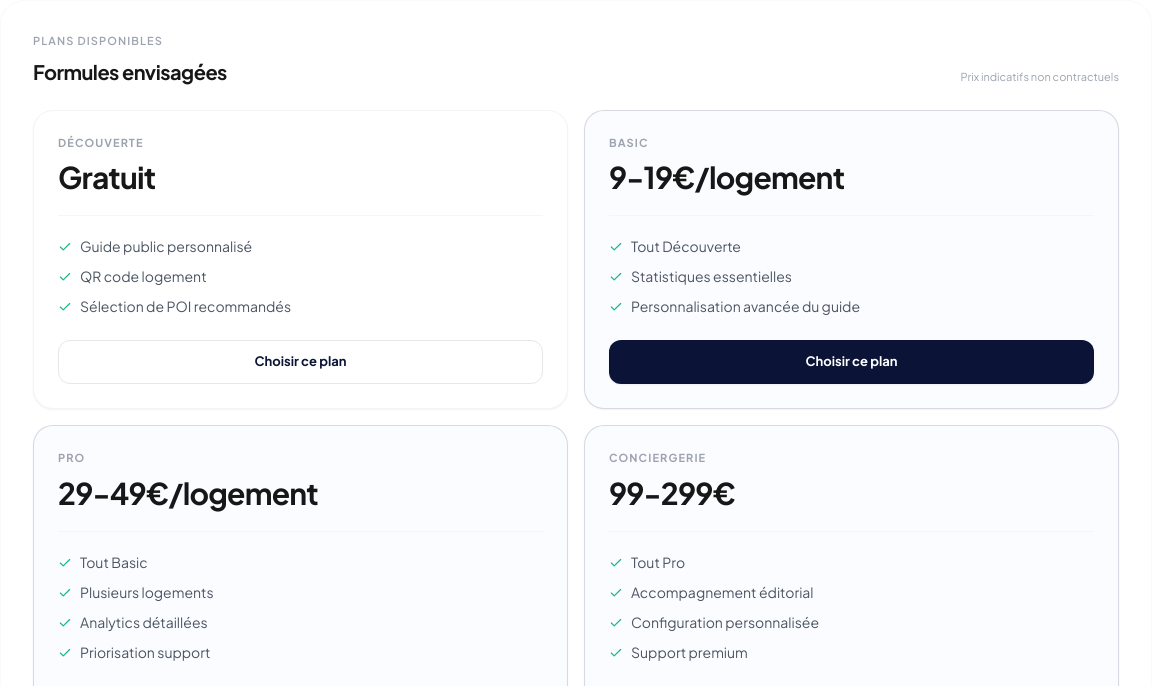
013 subscription plan grid › AC-02-01/02-02: shows indicative plans and an informational dialog without payment
expect the text "Prix indicatifs non contractuels" is shown: met, box [960,69,1119,86]
expect the text "Découverte" is shown: met, box [58,136,144,148]
Click the button "Choisir ce plan" below "Personnalisation avancée du guide".
click(852, 362)  # box [609,340,1094,384]
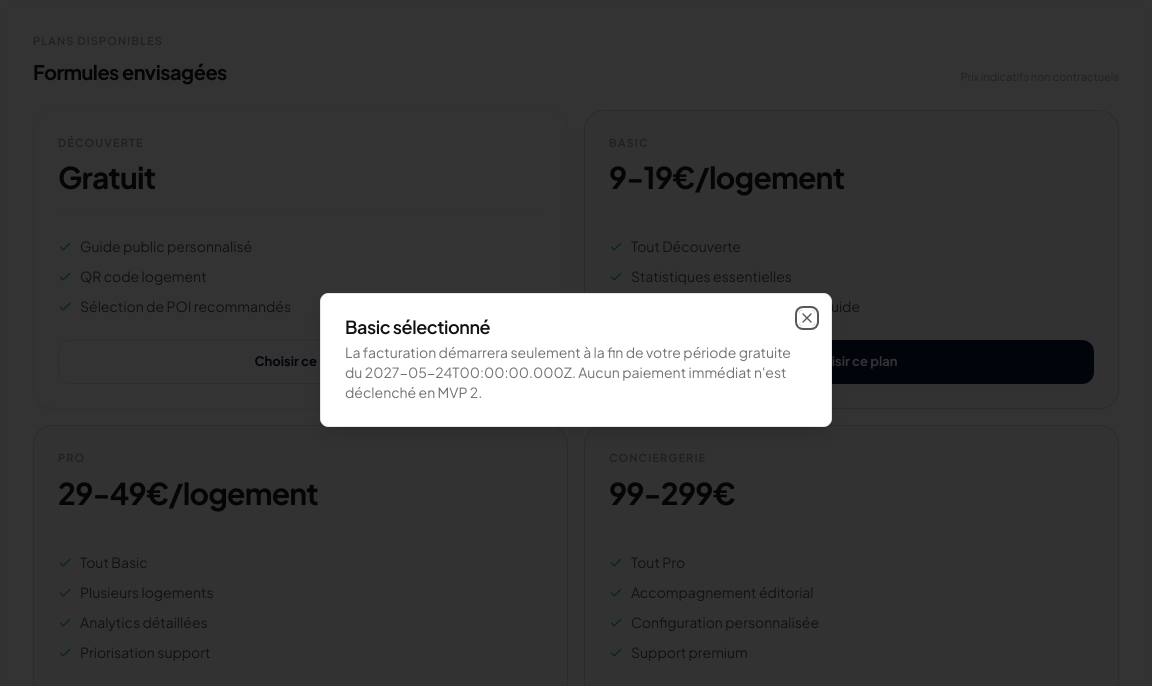
expect the dialog shows "La facturation démarrera seulement à la fin de votre période gratuite": met, box [345,343,791,381]
expect the dialog shows "Aucun paiement immédiat": met, box [345,363,786,401]
